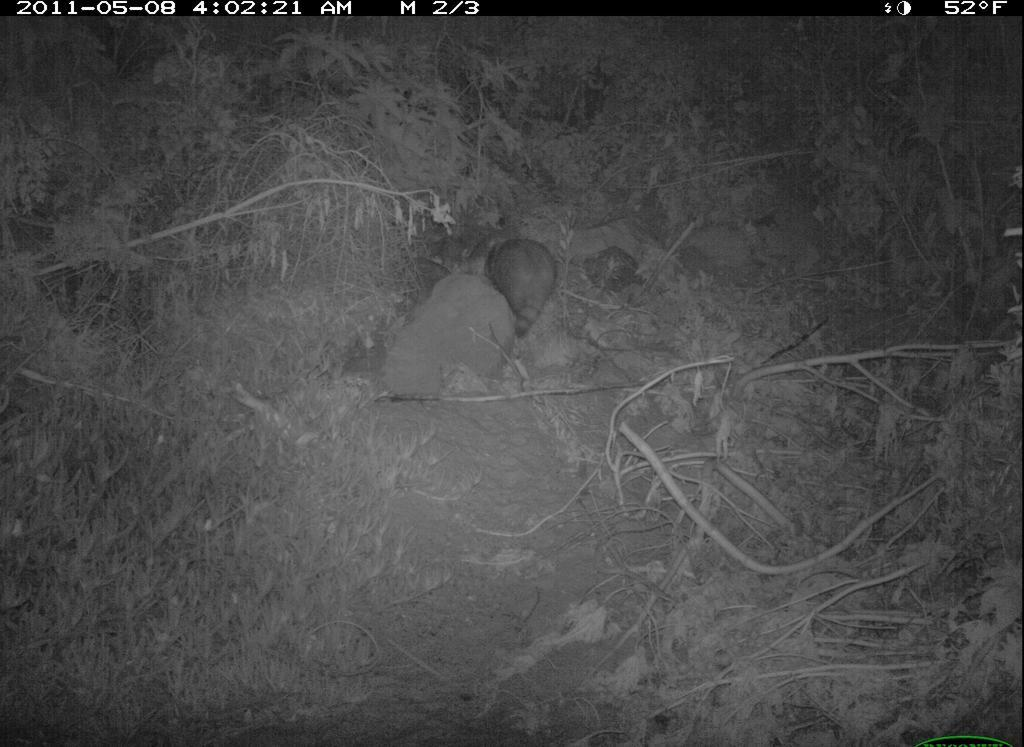raccoon: (487, 221, 577, 358)
